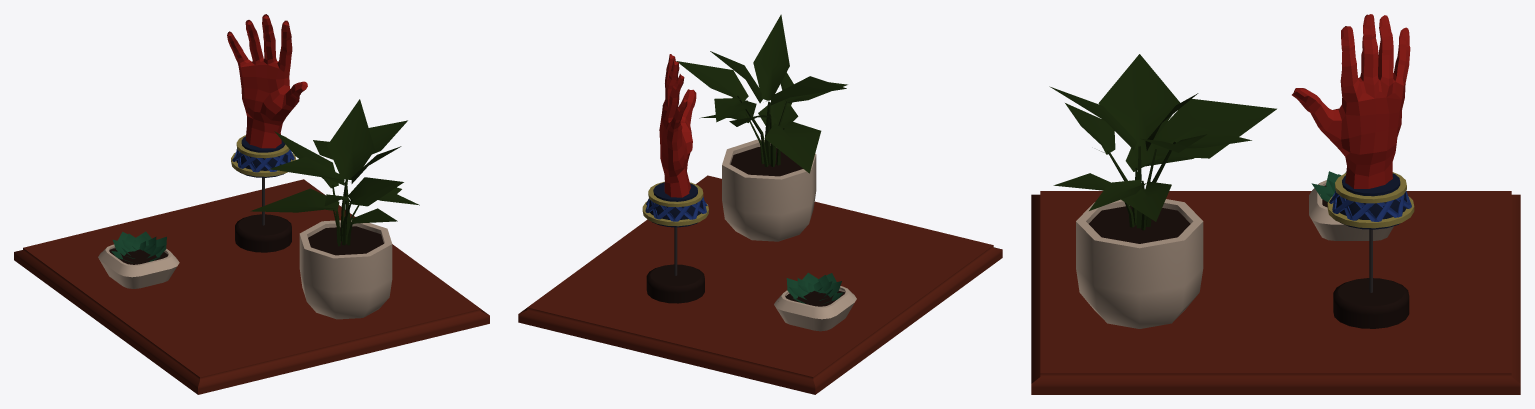
3 renders of one model, left to right at view 1: azimuth 30°, elevation 25°; view 2: azimuth 150°, elevation 25°; view 3: azimuth 270°, elevation 25°, orthographic. The views are drawn at different scales.
Parts seen in each view (by area): view 1: Box014, pCylinder1, Plane005, pPlane11, Cube_Cube_013, Cylinder003, Cylinder006, pPlane13, Object001, pPlane15, pPlane10, pPlane14 (+5 smaller); view 2: Box014, pCylinder1, Plane005, Cylinder003, Cube_Cube_013, pPlane12, pPlane13, pPlane19, Cylinder006, Object001, pPlane10, Cylinder001 (+7 smaller); view 3: Box014, pCylinder1, Plane005, pPlane10, pPlane14, Cylinder003, Cylinder006, Cube_Cube_013, Cylinder001, pPlane21, Box012, pPlane16 (+7 smaller).
Boxes of the visible parts, x1,y1,x2,y2 form: Box014: (14, 179, 489, 394); pCylinder1: (299, 220, 392, 319); Plane005: (227, 14, 307, 148); pPlane11: (327, 99, 374, 179); Cube_Cube_013: (98, 244, 179, 288); Cylinder003: (235, 214, 291, 252); Cylinder006: (308, 226, 383, 255); pPlane13: (250, 188, 339, 212); Object001: (111, 231, 166, 262); pPlane15: (348, 177, 403, 206); pPlane10: (269, 157, 347, 185); pPlane14: (274, 131, 338, 188); Box014: (518, 175, 1002, 394); pCylinder1: (722, 139, 816, 241); Plane005: (659, 54, 696, 197); Cylinder003: (646, 264, 704, 303); Cube_Cube_013: (774, 286, 856, 331); pPlane12: (753, 14, 789, 100); pPlane13: (764, 121, 821, 173); pPlane19: (676, 61, 748, 102); Cylinder006: (730, 147, 802, 176); Object001: (786, 272, 843, 304); pPlane10: (766, 76, 846, 105); Cylinder001: (649, 182, 703, 227); Box014: (1031, 191, 1520, 394); pCylinder1: (1076, 199, 1203, 328); Plane005: (1292, 14, 1410, 188); pPlane10: (1098, 54, 1179, 148); pPlane14: (1153, 99, 1276, 158); Cylinder003: (1333, 278, 1409, 328); Cylinder006: (1089, 205, 1190, 243); Cube_Cube_013: (1309, 180, 1393, 240); Cylinder001: (1336, 173, 1406, 229); pPlane21: (1121, 181, 1171, 221); Box012: (1329, 189, 1411, 221); pPlane16: (1065, 103, 1115, 154).
Bounding box in the file's own units: 92.81 × 72.89 × 101.
